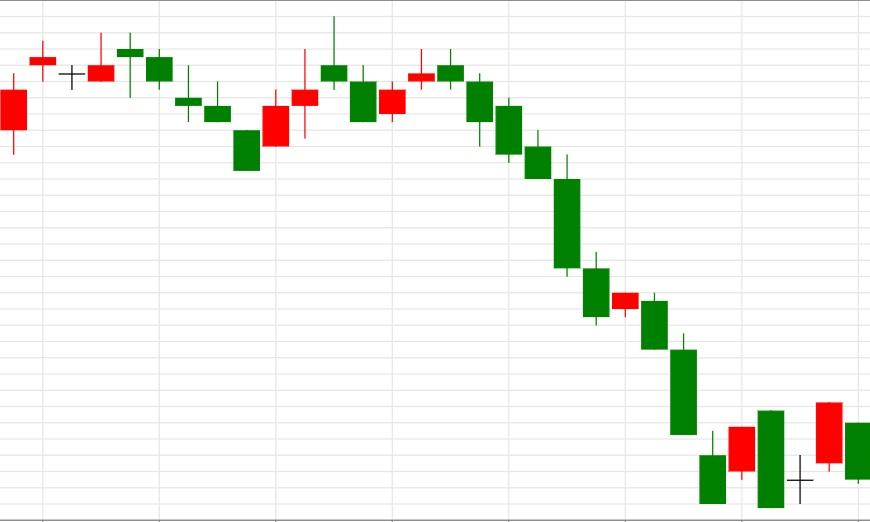shooting_star_fall: (233, 16, 348, 171)
